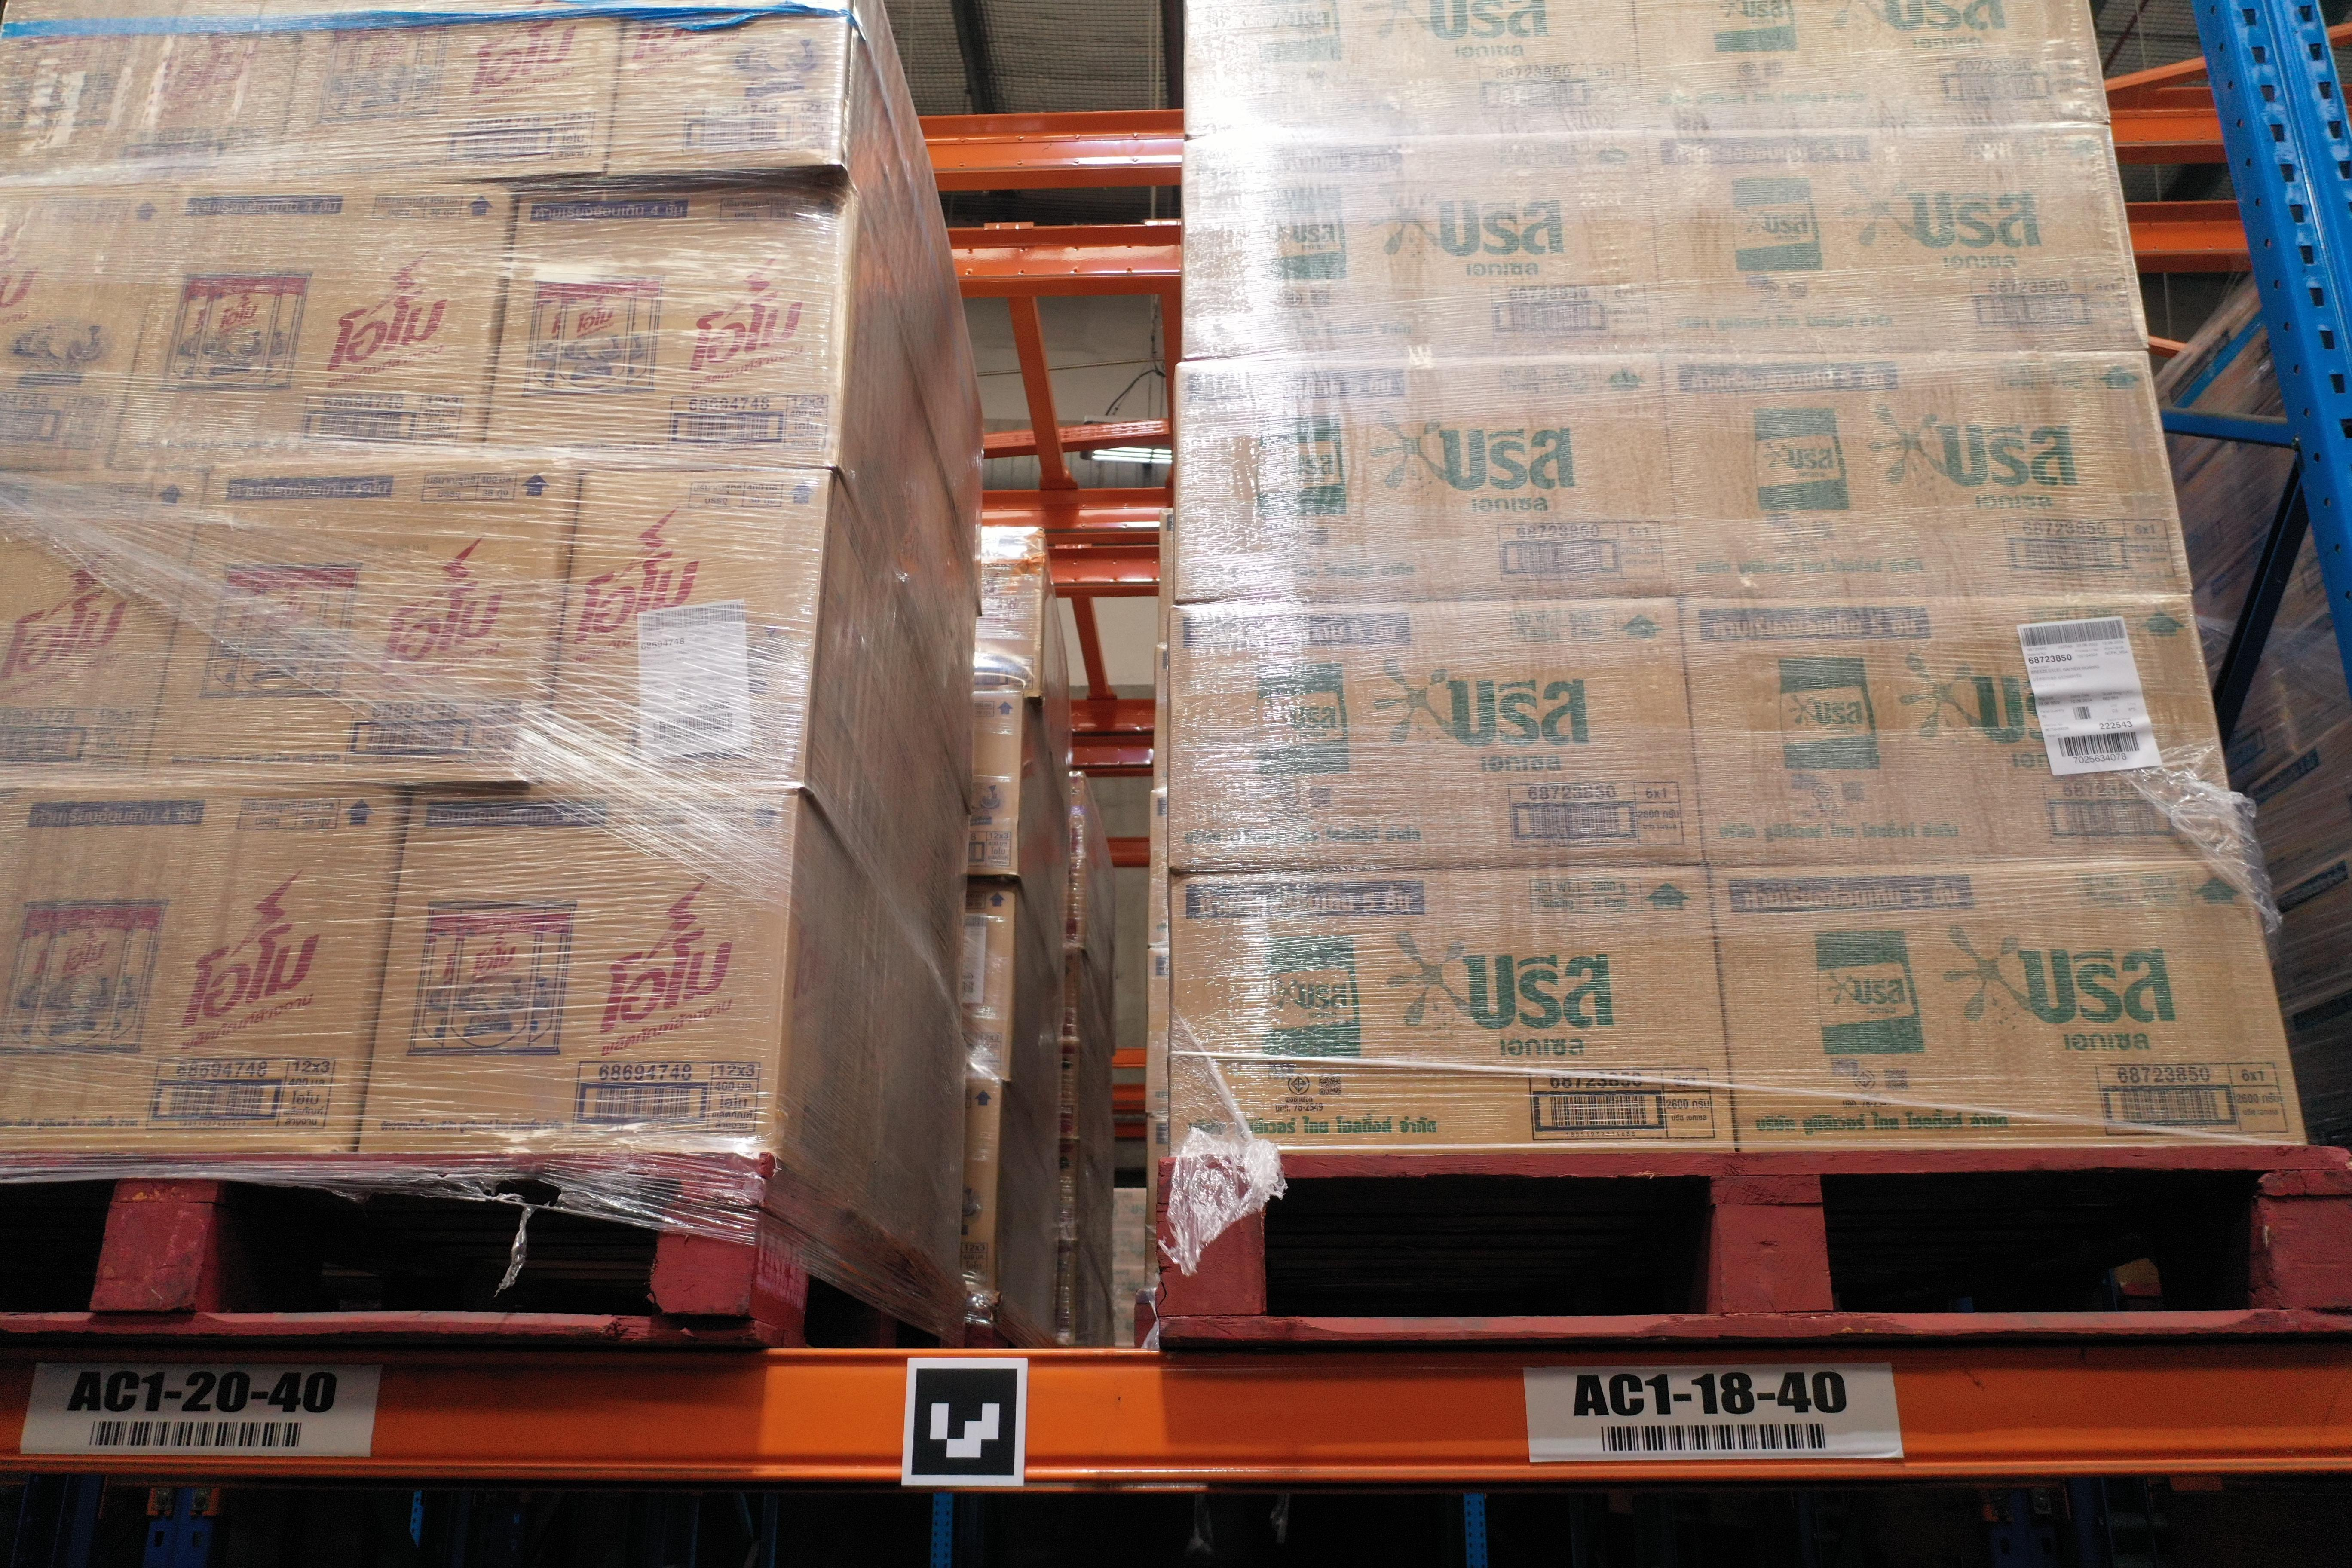-: (1708, 856, 2308, 1151), (1167, 861, 1739, 1160), (352, 789, 798, 1160), (1678, 591, 2245, 866), (0, 780, 411, 1158), (1165, 597, 1704, 875), (142, 462, 576, 786), (1661, 348, 2193, 597), (1174, 352, 1685, 604), (105, 180, 516, 469), (1647, 124, 2149, 355), (1178, 129, 1668, 360), (479, 180, 854, 469), (537, 469, 829, 793), (0, 465, 210, 789), (0, 178, 178, 471)
